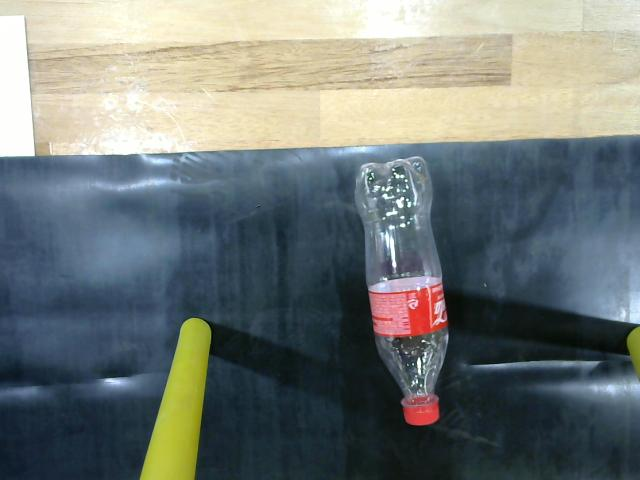bottle: (344, 144, 462, 429)
